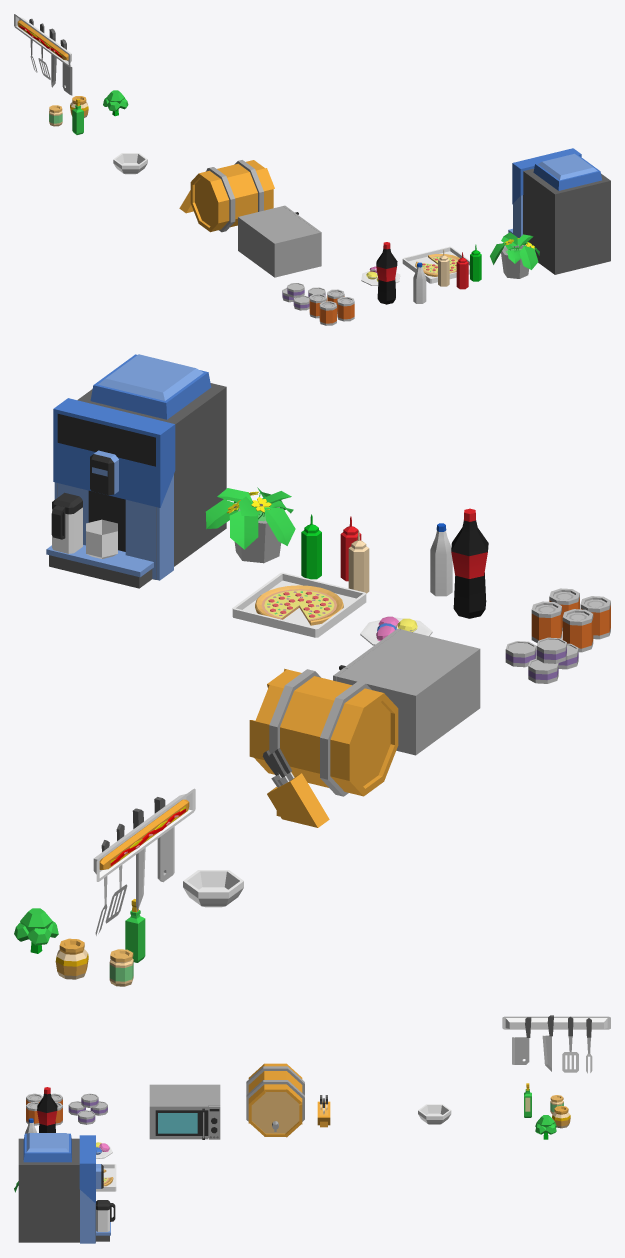
File: CocinaObjetos04.fbx
3 views of the same model, one above another, from view 1: azimuth 30°, elevation 25°; view 2: azimuth 150°, elevation 25°; view 3: azimuth 270°, elevation 25° (orthographic). The views are drawn at different scales.
Parts seen in each view (by area): view 1: CocinaObjetos04; view 2: CocinaObjetos04; view 3: CocinaObjetos04.
Boxes of the visible parts, bbox=[...] form: CocinaObjetos04: bbox=[14, 14, 610, 325]; CocinaObjetos04: bbox=[14, 354, 610, 986]; CocinaObjetos04: bbox=[14, 1015, 610, 1243].
Size of the model in its own units: 285 by 93.04 by 518.
